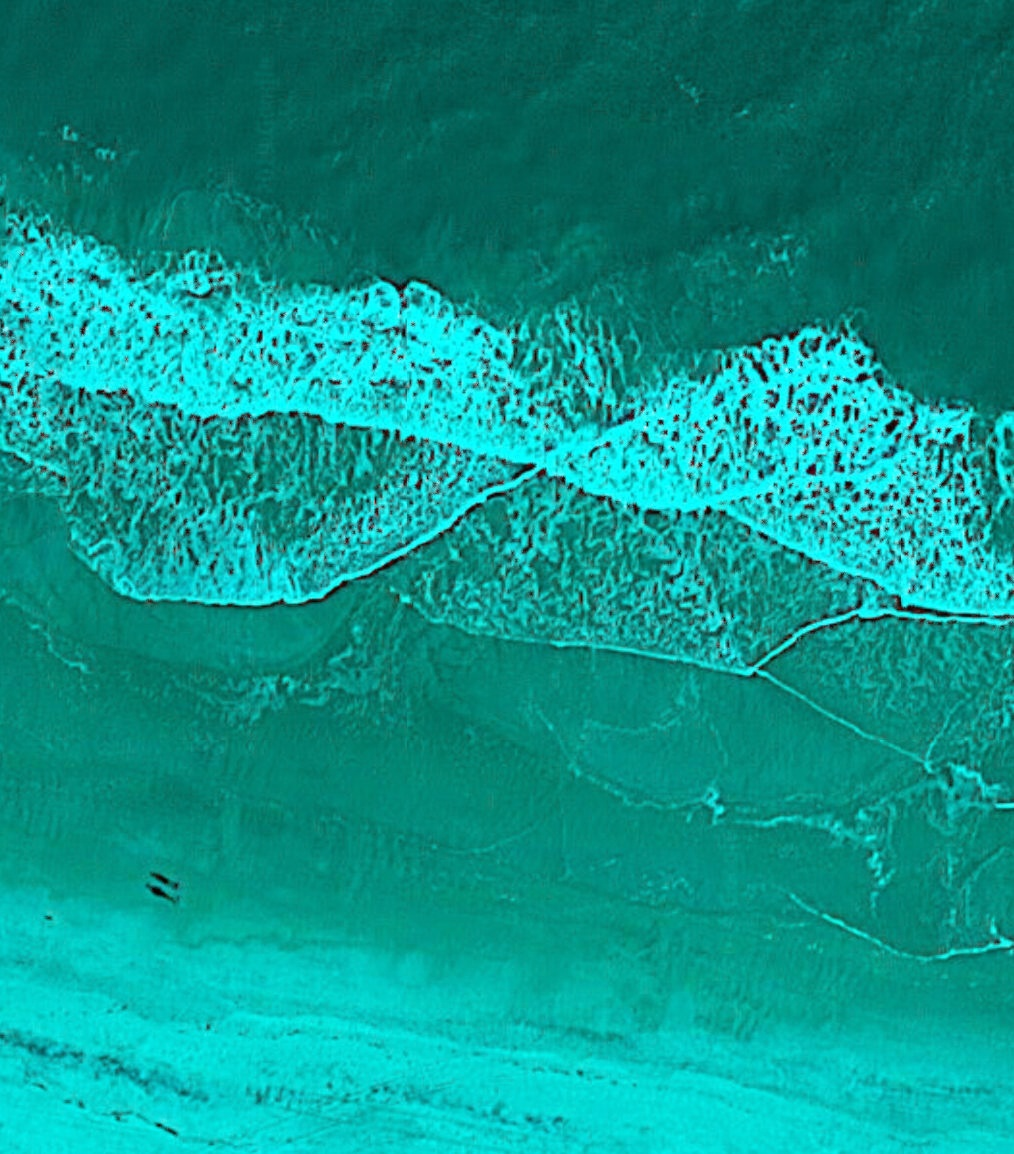rip_current: (348, 459, 569, 642)
